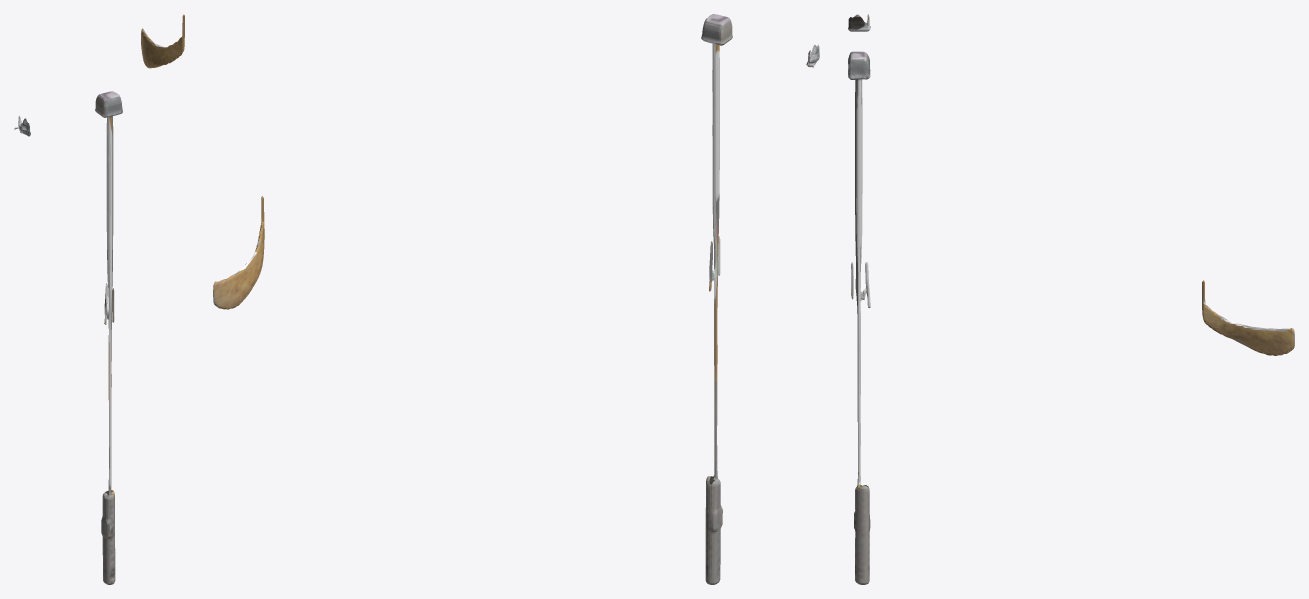
File: pabellon_ifema.glb
3 renders of one model, left to right at view 1: azimuth 30°, elevation 25°; view 2: azimuth 150°, elevation 25°; view 3: azimuth 270°, elevation 25°, orthographic. The views are drawn at different scales.
Parts seen in each view (by area): view 1: tmpe7xv2iy9.ply; view 2: tmpe7xv2iy9.ply; view 3: tmpe7xv2iy9.ply.
Boxes of the visible parts, <box> form: tmpe7xv2iy9.ply: <box>14,14,184,584</box>; tmpe7xv2iy9.ply: <box>213,14,819,584</box>; tmpe7xv2iy9.ply: <box>848,14,1294,584</box>.
Size of the model in its own units: 1.38 by 1.99 by 1.53.
1 material, 1 textured.
